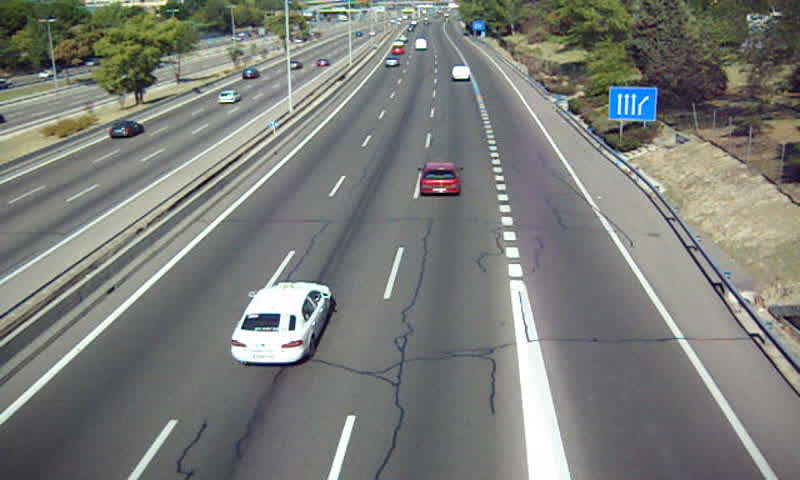car: (231, 282, 330, 362), (420, 164, 460, 196), (384, 55, 399, 68)
van: (451, 65, 471, 80)
